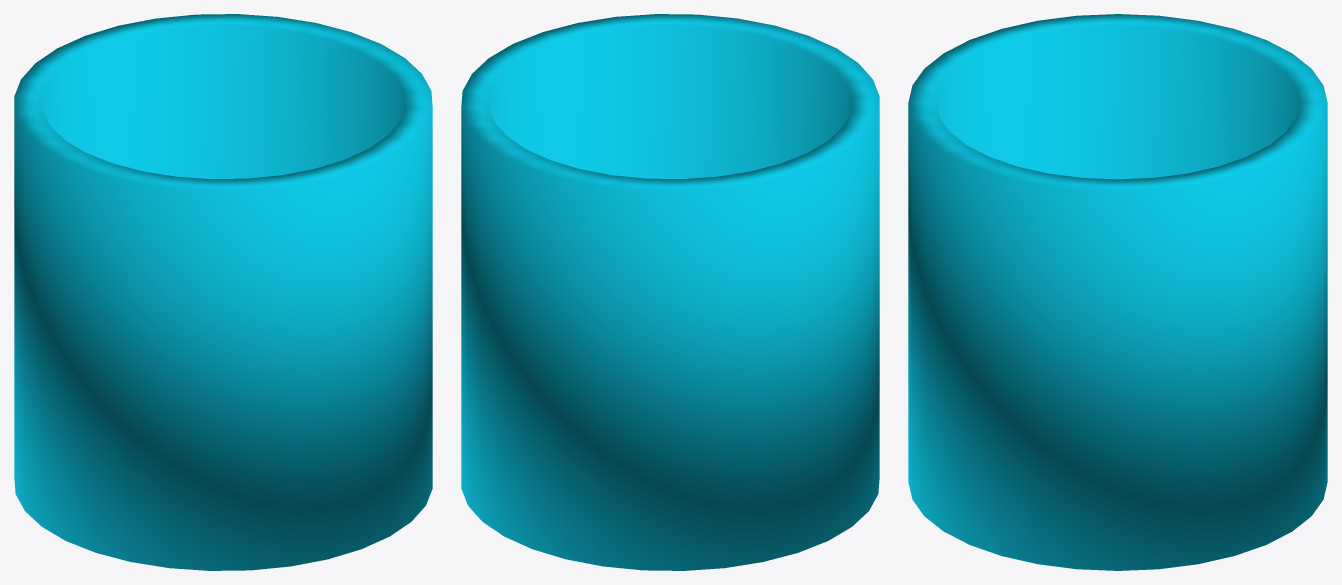
File: Spawner.fbx
3 views of the same model, side by side, from view 1: azimuth 30°, elevation 25°; view 2: azimuth 150°, elevation 25°; view 3: azimuth 270°, elevation 25° (orthographic).
Visible parts, largest first — view 1: Cylinder; view 2: Cylinder; view 3: Cylinder.
Part boxes in pixels (x1,y1,x2,y2): Cylinder: (14,14,432,570); Cylinder: (461,14,879,570); Cylinder: (908,14,1327,570).
Bounding box in the file's own units: 200 × 200 × 200.
